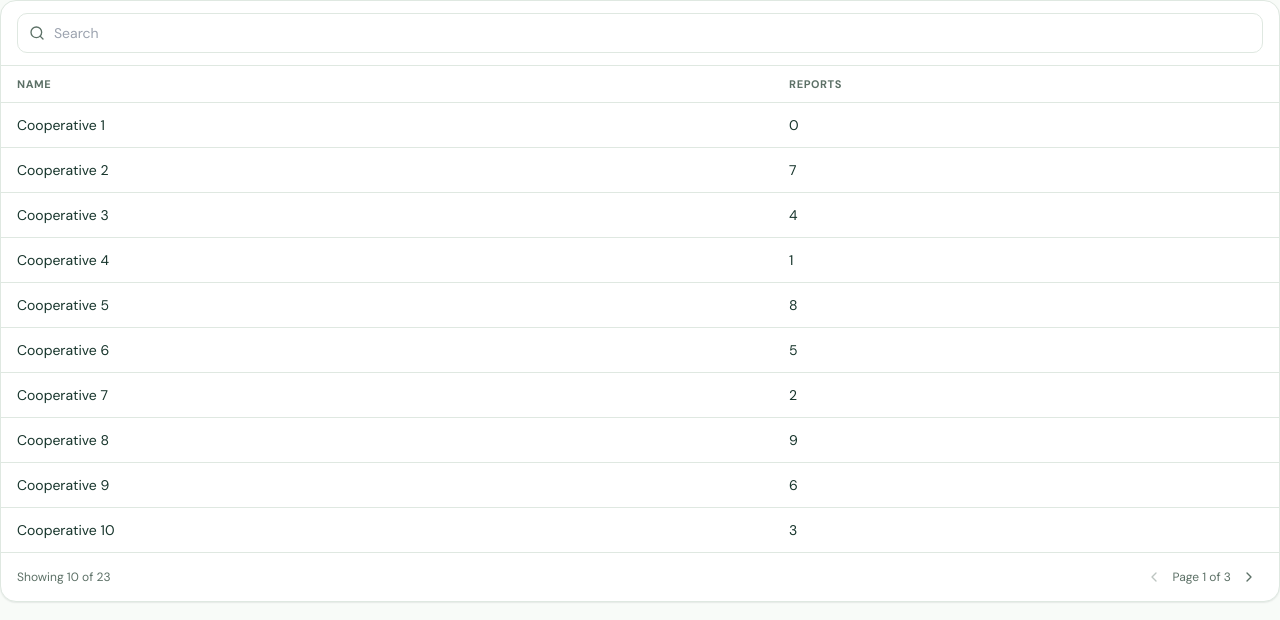
Scenario: DataTable › pages long lists
Click the 2nd button named "Next page": (1249, 577) 1235,563 -> 1263,591
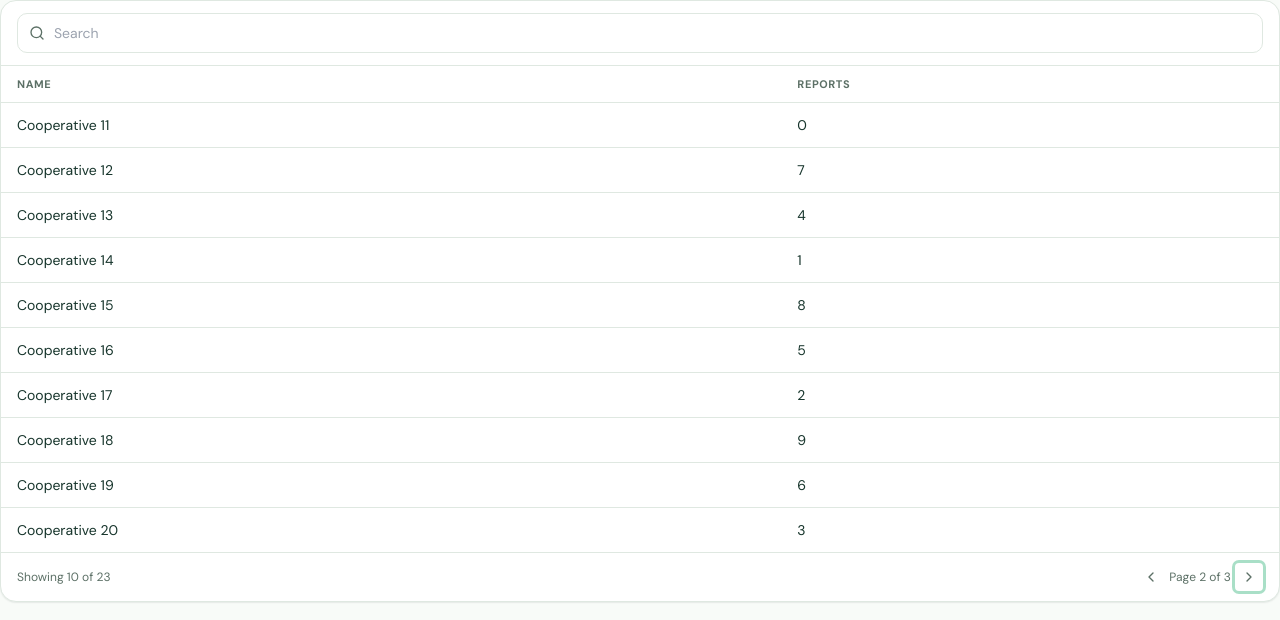
Result: the text "Cooperative 11" is shown at 1,103 -> 781,148
